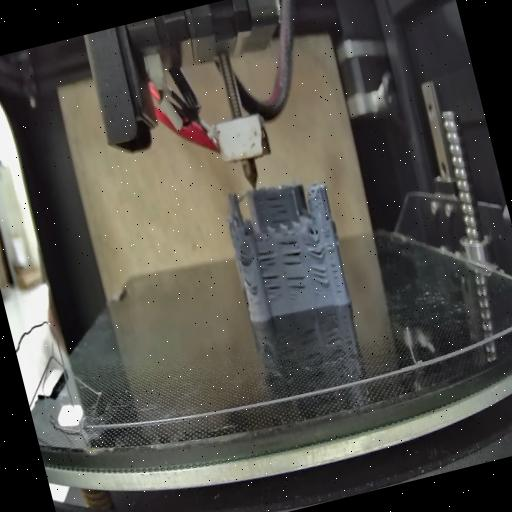cracks: (322, 235, 346, 300), (276, 234, 304, 270), (263, 189, 291, 225), (284, 268, 310, 300), (262, 271, 286, 298), (309, 264, 331, 290), (304, 240, 326, 262), (258, 247, 280, 269), (235, 247, 250, 268), (243, 274, 252, 288), (322, 207, 330, 222)
